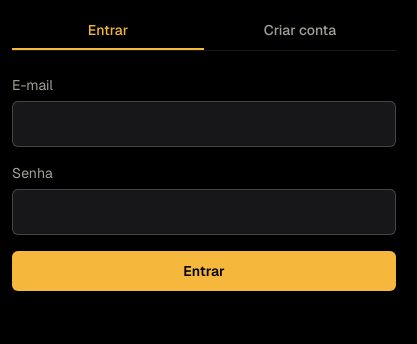
mostra o erro devolvido pela ação
This screenshot has width=417, height=344.
In the field labelled "E-mail": (204, 124) [12, 101, 396, 147], type "a@x.com"
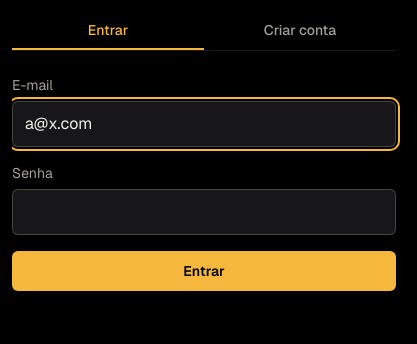
In the password field labelled "Senha": (204, 212) [12, 189, 396, 235], type "123456"
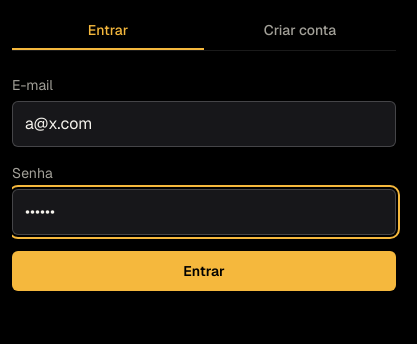
Click the button "Entrar": click(204, 271) [12, 251, 396, 291]
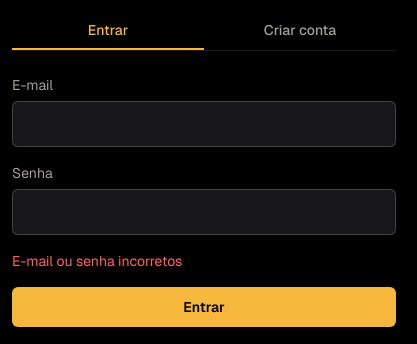
Check: the message reads "E-mail ou senha incorretos", box [12, 252, 182, 270]
